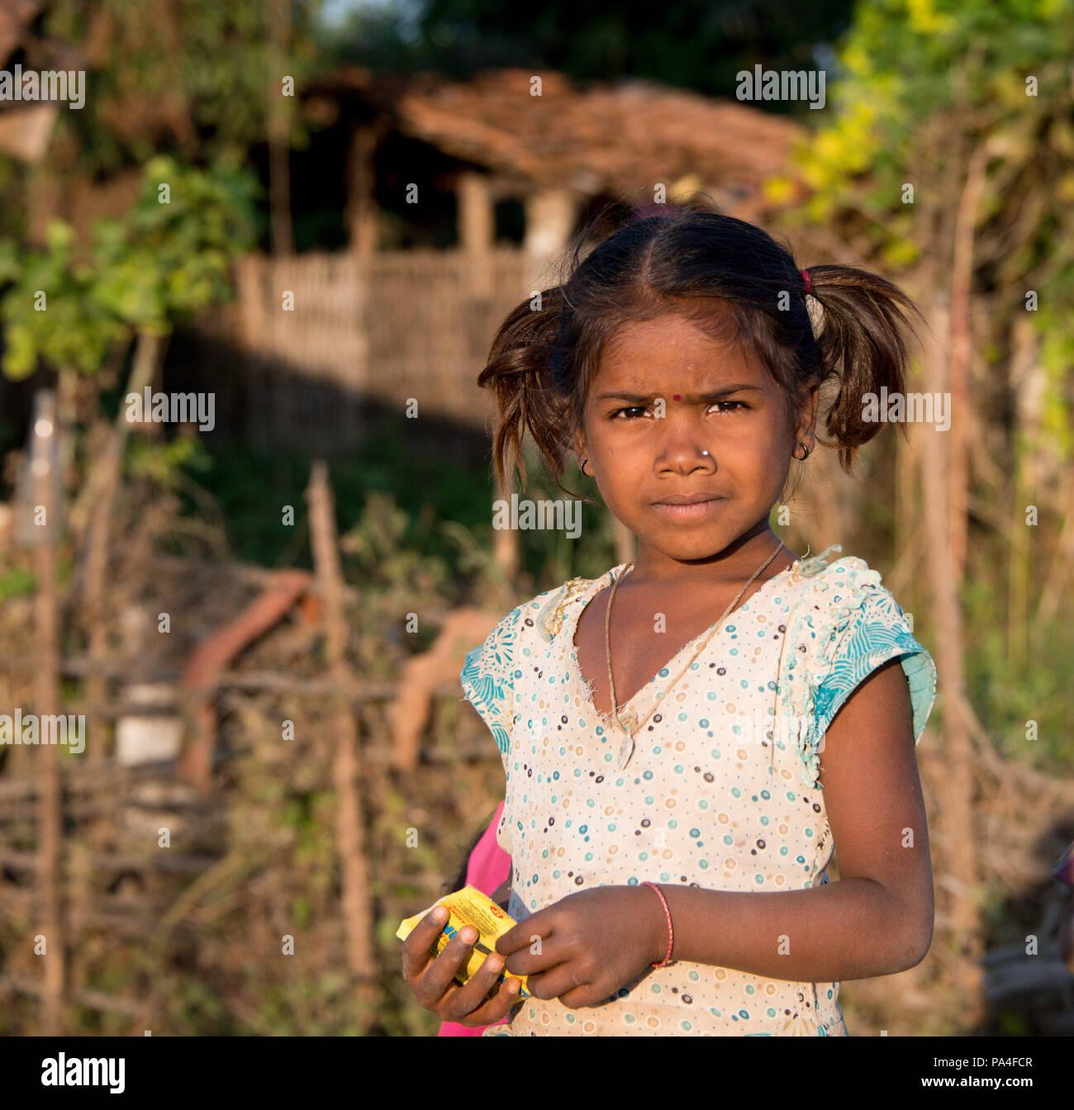Human: (425, 180, 1011, 1047)
